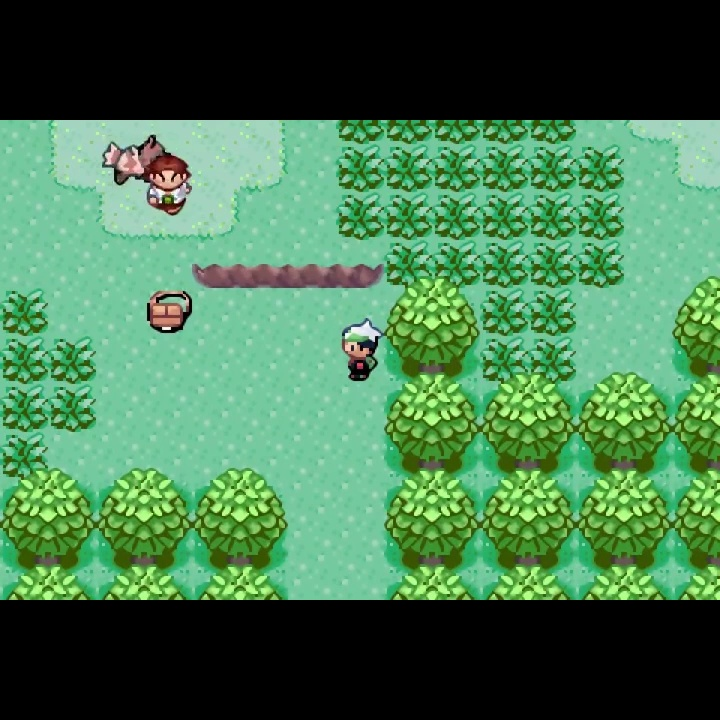grass: (48, 334, 99, 385), (49, 384, 99, 434), (335, 145, 385, 195), (480, 288, 531, 337), (576, 240, 625, 291), (384, 143, 433, 194), (529, 289, 578, 339), (480, 190, 529, 240), (479, 145, 529, 194), (530, 238, 576, 291), (576, 193, 625, 242), (576, 143, 625, 192), (479, 336, 529, 384), (1, 287, 49, 337), (1, 383, 50, 431), (337, 192, 385, 241), (385, 191, 433, 240), (433, 191, 481, 240), (530, 336, 577, 386), (384, 241, 434, 288), (481, 241, 530, 288), (1, 432, 50, 479), (1, 335, 48, 384), (530, 191, 577, 240), (433, 144, 480, 193), (435, 240, 481, 290), (529, 145, 577, 192), (335, 120, 387, 146), (433, 120, 481, 146), (479, 120, 530, 144), (384, 120, 431, 145), (530, 120, 577, 144)
npc: (337, 315, 386, 385), (146, 153, 195, 218)
wall: (191, 467, 289, 571), (385, 276, 481, 380), (577, 373, 673, 477), (385, 373, 481, 474), (96, 467, 191, 569), (1, 467, 96, 569), (385, 468, 482, 567), (481, 375, 577, 473), (576, 468, 674, 564), (482, 467, 573, 564), (672, 274, 720, 376), (672, 372, 720, 470), (675, 468, 720, 564), (574, 560, 674, 599), (481, 560, 575, 600), (192, 562, 292, 599), (96, 562, 192, 600), (383, 562, 481, 599), (1, 564, 95, 601), (675, 561, 720, 601)
